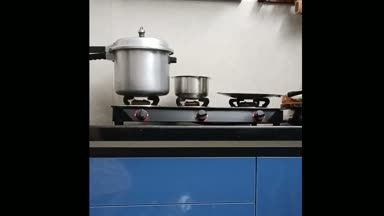flame_gas_off: (177, 96, 211, 121), (234, 99, 269, 122)
noflame_gason: (123, 95, 156, 122)
